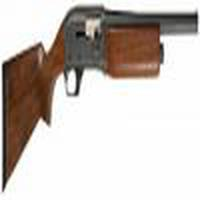gun: (1, 6, 199, 155)
